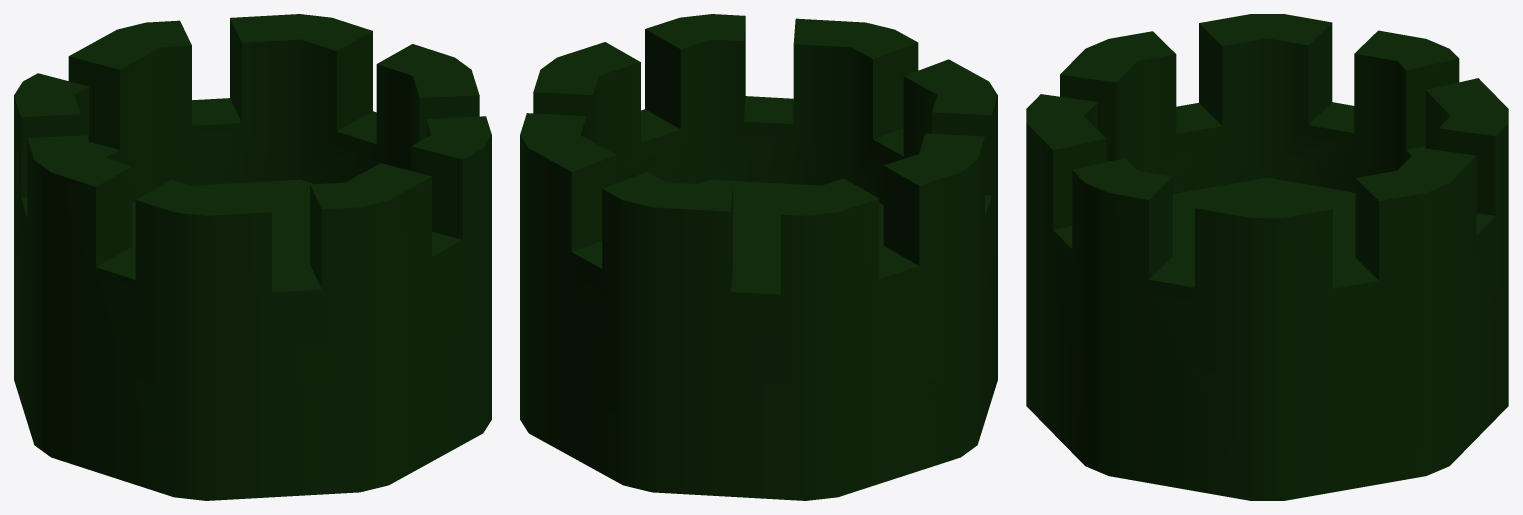
File: round-tower-top-8.fbx
3 renders of one model, left to right at view 1: azimuth 30°, elevation 25°; view 2: azimuth 150°, elevation 25°; view 3: azimuth 270°, elevation 25°, orthographic.
Visible parts, largest first — view 1: round-tower-top-8; view 2: round-tower-top-8; view 3: round-tower-top-8.
Part boxes in pixels (x1,y1,x2,y2): round-tower-top-8: [14, 14, 491, 500]; round-tower-top-8: [520, 14, 997, 500]; round-tower-top-8: [1026, 14, 1508, 500].
Bounding box in the file's own units: 2.72 × 1.76 × 2.72.
